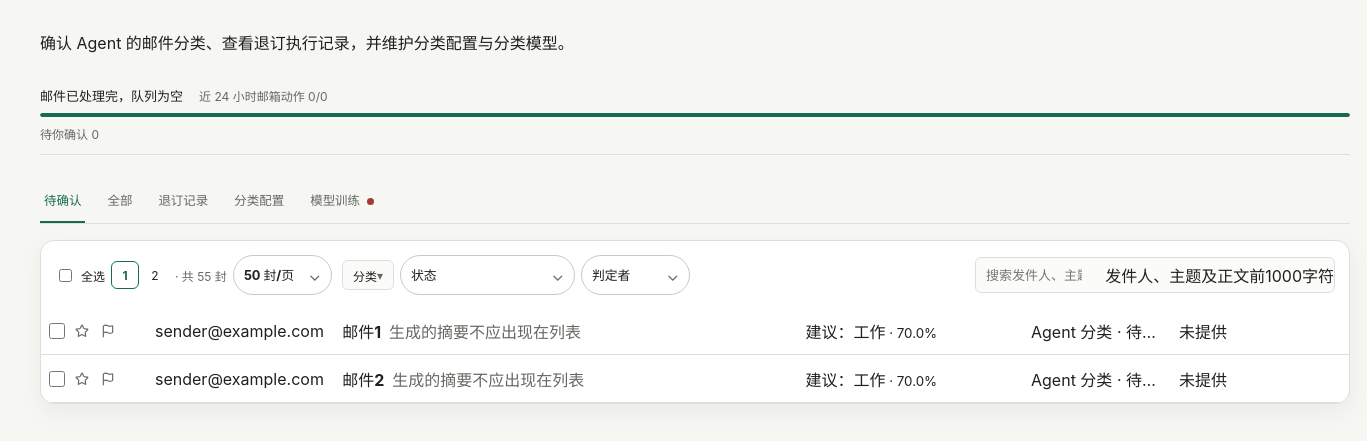
it: opens on 待确认 with a 50 default, URL pagination and page sizes
expect the button with aria-label "打开邮件 邮件1" is shown: met, box [41,307,1349,355]
Select "20 封/页" in the dropdown named "每页邮件数" at (272, 275), box [244,256,301,294]
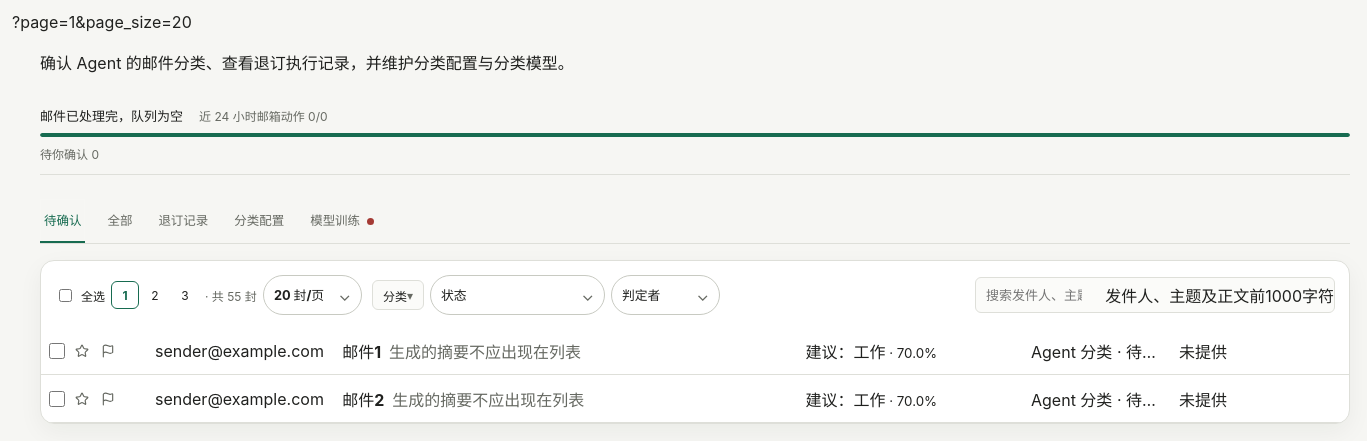
Click the button named "第 2 页" at (155, 295), box [141,281,169,309]
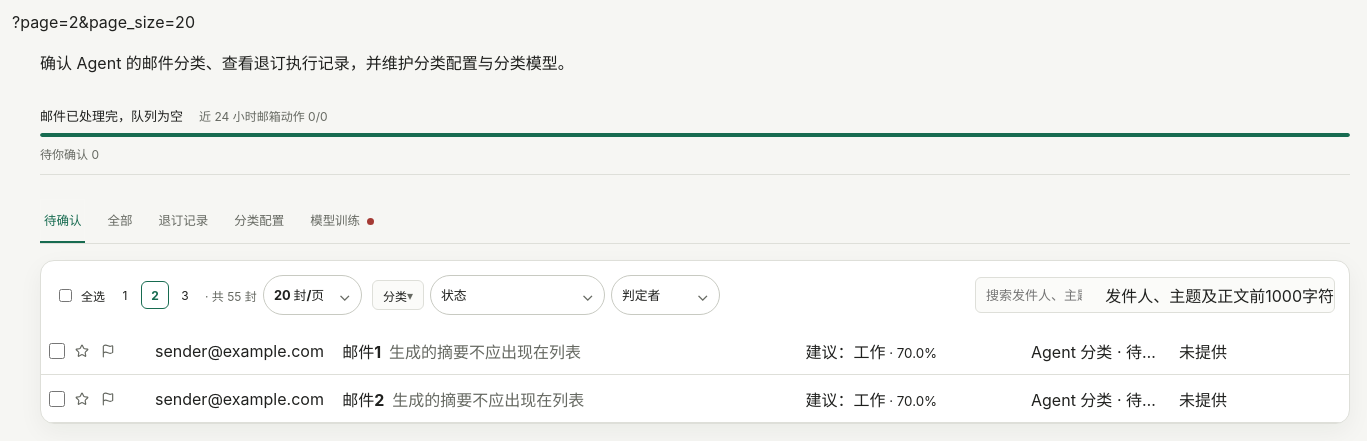
expect the text named "URL" shows "page=2": met, box [12,12,195,32]
